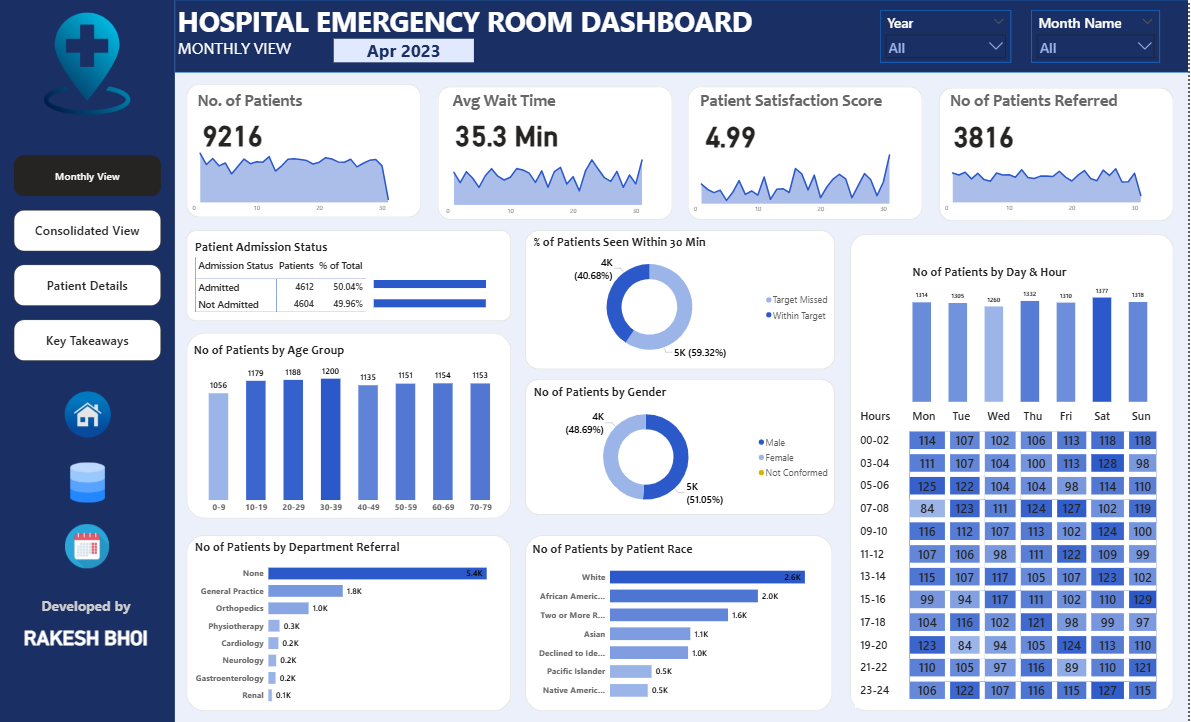

The page's visual inventory and layout, read from the dashboard file:
{"tool":"powerbi","page":{"name":"Monthly View","canvas":[2300,1400],"ordinal":0},"visuals":[{"type":"shape","box":[0,0,338.6,1400.5],"z":0},{"type":"shape","box":[338.6,0,1961.7,140],"z":1000},{"type":"textbox","box":[338.6,0,1289.2,89.5],"z":2000},{"type":"textbox","box":[338.6,70.1,266.1,70.1],"z":3000},{"type":"shape","box":[360.4,162.1,455,259],"z":4000},{"type":"card","fields":{"Values":["Hospital ER_Data.No of Patients"]},"box":[379.8,220.1,140.3,72.6],"z":5000},{"type":"slicer","fields":{"Values":["Date Table.Year"]},"box":[1702.8,19.4,254,101.6],"z":6000},{"type":"slicer","fields":{"Values":["Date Table.Month Name"]},"box":[1995.5,19.4,249.1,101.6],"z":7000},{"type":"textbox","box":[377.3,169.3,285.4,58.1],"z":8000},{"type":"areaChart","fields":{"Category":["Date Table.Date.Variation.Date Hierarchy.Day"],"Y":["Hospital ER_Data.No of Patients"]},"box":[360.4,275.7,454.7,145.1],"z":9000},{"type":"card","fields":{"Values":["Min(Date Table.Month & Year)"]},"box":[645.8,75,270.9,46],"z":10000},{"type":"shape","box":[1331.2,166.3,455,259],"z":11000},{"type":"card","fields":{"Values":["Hospital ER_Data.Satisfaction Score"]},"box":[1349.7,222.5,128.2,72.6],"z":12000},{"type":"textbox","box":[1349.7,169.3,387,58.1],"z":13000},{"type":"areaChart","fields":{"Category":["Date Table.Date.Variation.Date Hierarchy.Day"],"Y":["Hospital ER_Data.Satisfaction Score"]},"box":[1330.3,278.2,454.7,145.1],"z":14000},{"type":"shape","box":[1816.5,169.3,454.7,258.8],"z":15000},{"type":"card","fields":{"Values":["Hospital ER_Data.No of Patients Referred"]},"box":[1833.5,222.5,140.3,72.6],"z":16000},{"type":"textbox","box":[1833.5,169.3,360.4,58.1],"z":17000},{"type":"areaChart","fields":{"Category":["Date Table.Date.Variation.Date Hierarchy.Day"],"Y":["Hospital ER_Data.No of Patients Referred"]},"box":[1816.5,275.7,454.7,145.1],"z":18000},{"type":"shape","box":[845.8,166.3,455,259],"z":19000},{"type":"card","fields":{"Values":["Hospital ER_Data.Avg Wait Time"]},"box":[865.9,220.1,229.8,72.6],"z":20000},{"type":"textbox","box":[870.8,169.3,278.2,58.1],"z":21000},{"type":"areaChart","fields":{"Category":["Date Table.Date.Variation.Date Hierarchy.Day"],"Y":["Avg(Hospital ER_Data.Patient Waittime)"]},"box":[851.4,280.6,454.7,145.1],"z":22000},{"type":"shape","box":[360.4,445.1,628.9,176.6],"z":23000},{"type":"pivotTable","title":"Patient Admission Status","fields":{"Rows":["Hospital ER_Data.Admission Status"],"Values":["Hospital ER_Data.No of Patients1","Hospital ER_Data.No of Patients"]},"box":[372.5,462,612,159.6],"z":24000},{"type":"barChart","fields":{"Category":["Hospital ER_Data.Admission Status"],"Y":["Hospital ER_Data.No of Patients"]},"box":[718.4,510.4,292.7,111.3],"z":25000},{"type":"shape","box":[360.4,643.4,628.9,360.4],"z":26000},{"type":"clusteredColumnChart","fields":{"Category":["Hospital ER_Data.Age Group"],"Y":["Hospital ER_Data.No of Patients"]},"box":[370.1,662.8,614.4,341.1],"z":27000},{"type":"shape","box":[360.4,1035.3,628.9,341.1],"z":28000},{"type":"clusteredBarChart","fields":{"Category":["Hospital ER_Data.Department Referral"],"Y":["Hospital ER_Data.No of Patients"]},"box":[372.5,1042.5,602.3,333.8],"z":29000},{"type":"shape","box":[1015.9,445.1,600,270],"z":30000},{"type":"donutChart","title":"% of Patients Seen Within 30 Min","fields":{"Category":["Hospital ER_Data.Wait Time Status"],"Y":["Hospital ER_Data.No of Patients"]},"box":[1028,452.3,587.8,254],"z":31000},{"type":"shape","box":[1015.9,732.9,599.9,263.7],"z":32000},{"type":"donutChart","title":"No of Patients by Gender","fields":{"Y":["Hospital ER_Data.No of Patients"],"Category":["Hospital ER_Data.Patient Gender"]},"box":[1028,742.6,587.8,254],"z":33000},{"type":"shape","box":[1015.9,1035.3,595,341.1],"z":34000},{"type":"clusteredBarChart","fields":{"Y":["Hospital ER_Data.No of Patients"],"Category":["Hospital ER_Data.Patient Race"]},"box":[1025.6,1047.3,566,321.7],"z":35000},{"type":"shape","box":[1644.8,452.3,626.5,924],"z":36000},{"type":"pivotTable","fields":{"Rows":["Hospital ER_Data.Wait Time Interval"],"Columns":["Date Table.Day Name"],"Values":["Hospital ER_Data.No of Patients"]},"box":[1654.5,783.7,604.7,585.4],"z":37000},{"type":"columnChart","title":"No of Patients by Day & Hour","fields":{"Category":["Date Table.Day Name"],"Y":["Hospital ER_Data.No of Patients"]},"box":[1760.9,510.4,466.8,273.3],"z":38000},{"type":"image","box":[60.5,19.4,215.3,208],"z":39000},{"type":"pageNavigator","box":[26.6,299.9,285.4,399.1],"z":40000},{"type":"image","box":[125.8,887.7,87.1,91.9],"z":41000},{"type":"image","box":[104,742.6,130.6,118.5],"z":42000},{"type":"image","box":[120.9,1003.8,96.8,106.4],"z":43000},{"type":"textbox","box":[75,1148.9,191.1,58.1],"z":44000},{"type":"textbox","box":[41.1,1207,263.7,67.7],"z":45000}]}

Visuals, with their boxes in screenshot pixels (x1, y1, x2, y2), scaled from the page's 2300x1400 canvas onto the 1191x722 screenshot:
shape: [x1=0, y1=0, x2=175, y2=721]
shape: [x1=175, y1=0, x2=1190, y2=72]
textbox: [x1=175, y1=0, x2=843, y2=46]
textbox: [x1=175, y1=36, x2=313, y2=72]
shape: [x1=187, y1=84, x2=422, y2=217]
card - Hospital ER_Data.No of Patients: [x1=197, y1=114, x2=269, y2=151]
slicer - Date Table.Year: [x1=882, y1=10, x2=1013, y2=62]
slicer - Date Table.Month Name: [x1=1033, y1=10, x2=1162, y2=62]
textbox: [x1=195, y1=87, x2=343, y2=117]
areaChart - Date Table.Date.Variation.Date Hierarchy.Day x Hospital ER_Data.No of Patients: [x1=187, y1=142, x2=422, y2=217]
card - Min(Date Table.Month & Year): [x1=334, y1=39, x2=475, y2=62]
shape: [x1=689, y1=86, x2=925, y2=219]
card - Hospital ER_Data.Satisfaction Score: [x1=699, y1=115, x2=765, y2=152]
textbox: [x1=699, y1=87, x2=899, y2=117]
areaChart - Date Table.Date.Variation.Date Hierarchy.Day x Hospital ER_Data.Satisfaction Score: [x1=689, y1=143, x2=924, y2=218]
shape: [x1=941, y1=87, x2=1176, y2=221]
card - Hospital ER_Data.No of Patients Referred: [x1=949, y1=115, x2=1022, y2=152]
textbox: [x1=949, y1=87, x2=1136, y2=117]
areaChart - Date Table.Date.Variation.Date Hierarchy.Day x Hospital ER_Data.No of Patients Referred: [x1=941, y1=142, x2=1176, y2=217]
shape: [x1=438, y1=86, x2=674, y2=219]
card - Hospital ER_Data.Avg Wait Time: [x1=448, y1=114, x2=567, y2=151]
textbox: [x1=451, y1=87, x2=595, y2=117]
areaChart - Date Table.Date.Variation.Date Hierarchy.Day x Avg(Hospital ER_Data.Patient Waittime): [x1=441, y1=145, x2=676, y2=220]
shape: [x1=187, y1=230, x2=512, y2=321]
"Patient Admission Status" pivotTable: [x1=193, y1=238, x2=510, y2=321]
barChart - Hospital ER_Data.Admission Status x Hospital ER_Data.No of Patients: [x1=372, y1=263, x2=524, y2=321]
shape: [x1=187, y1=332, x2=512, y2=518]
clusteredColumnChart - Hospital ER_Data.Age Group x Hospital ER_Data.No of Patients: [x1=192, y1=342, x2=510, y2=518]
shape: [x1=187, y1=534, x2=512, y2=710]
clusteredBarChart - Hospital ER_Data.Department Referral x Hospital ER_Data.No of Patients: [x1=193, y1=538, x2=505, y2=710]
shape: [x1=526, y1=230, x2=837, y2=369]
"% of Patients Seen Within 30 Min" donutChart: [x1=532, y1=233, x2=837, y2=364]
shape: [x1=526, y1=378, x2=837, y2=514]
"No of Patients by Gender" donutChart: [x1=532, y1=383, x2=837, y2=514]
shape: [x1=526, y1=534, x2=834, y2=710]
clusteredBarChart - Hospital ER_Data.No of Patients x Hospital ER_Data.Patient Race: [x1=531, y1=540, x2=824, y2=706]
shape: [x1=852, y1=233, x2=1176, y2=710]
pivotTable - Hospital ER_Data.Wait Time Interval x Date Table.Day Name: [x1=857, y1=404, x2=1170, y2=706]
"No of Patients by Day & Hour" columnChart: [x1=912, y1=263, x2=1154, y2=404]
image: [x1=31, y1=10, x2=143, y2=117]
pageNavigator: [x1=14, y1=155, x2=162, y2=360]
image: [x1=65, y1=458, x2=110, y2=505]
image: [x1=54, y1=383, x2=121, y2=444]
image: [x1=63, y1=518, x2=113, y2=573]
textbox: [x1=39, y1=593, x2=138, y2=622]
textbox: [x1=21, y1=622, x2=158, y2=657]
